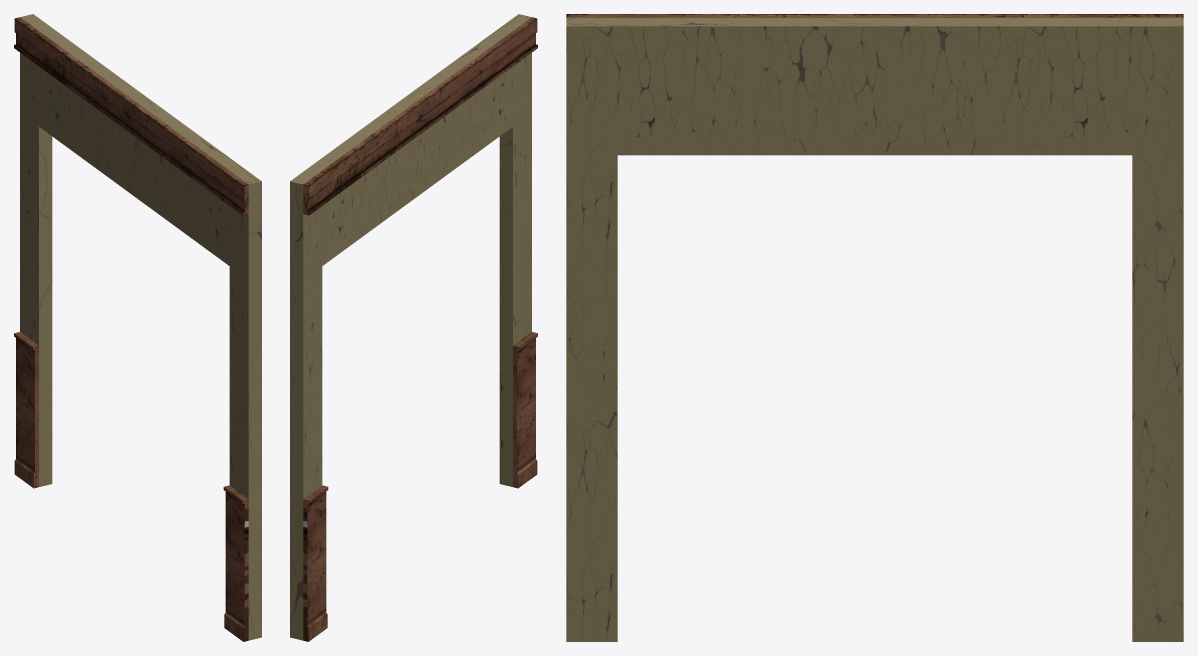
The model's file is Wall_3m_Doorway_A2.fbx.
The picture shows the model from 3 angles, left to right: view 1: azimuth 30°, elevation 25°; view 2: azimuth 150°, elevation 25°; view 3: azimuth 270°, elevation 25°; orthographic projection. The views are drawn at different scales.
Parts seen in each view (by area): view 1: Wall_3m_Doorway_A.001; view 2: Wall_3m_Doorway_A.001; view 3: Wall_3m_Doorway_A.001.
Boxes of the visible parts, <box> form: Wall_3m_Doorway_A.001: <box>14,14,261,641</box>; Wall_3m_Doorway_A.001: <box>290,14,537,641</box>; Wall_3m_Doorway_A.001: <box>566,14,1183,641</box>.
Size of the model in its own units: 0.1458 by 3.3 by 3.
